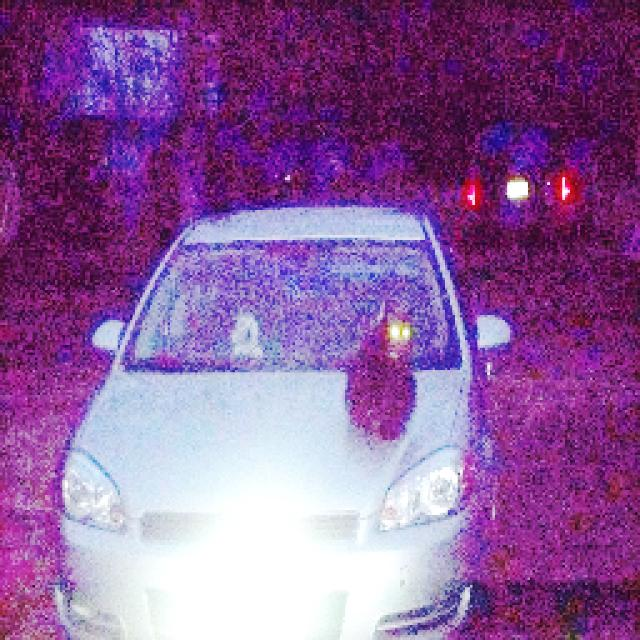cat: (344, 299, 424, 445)
